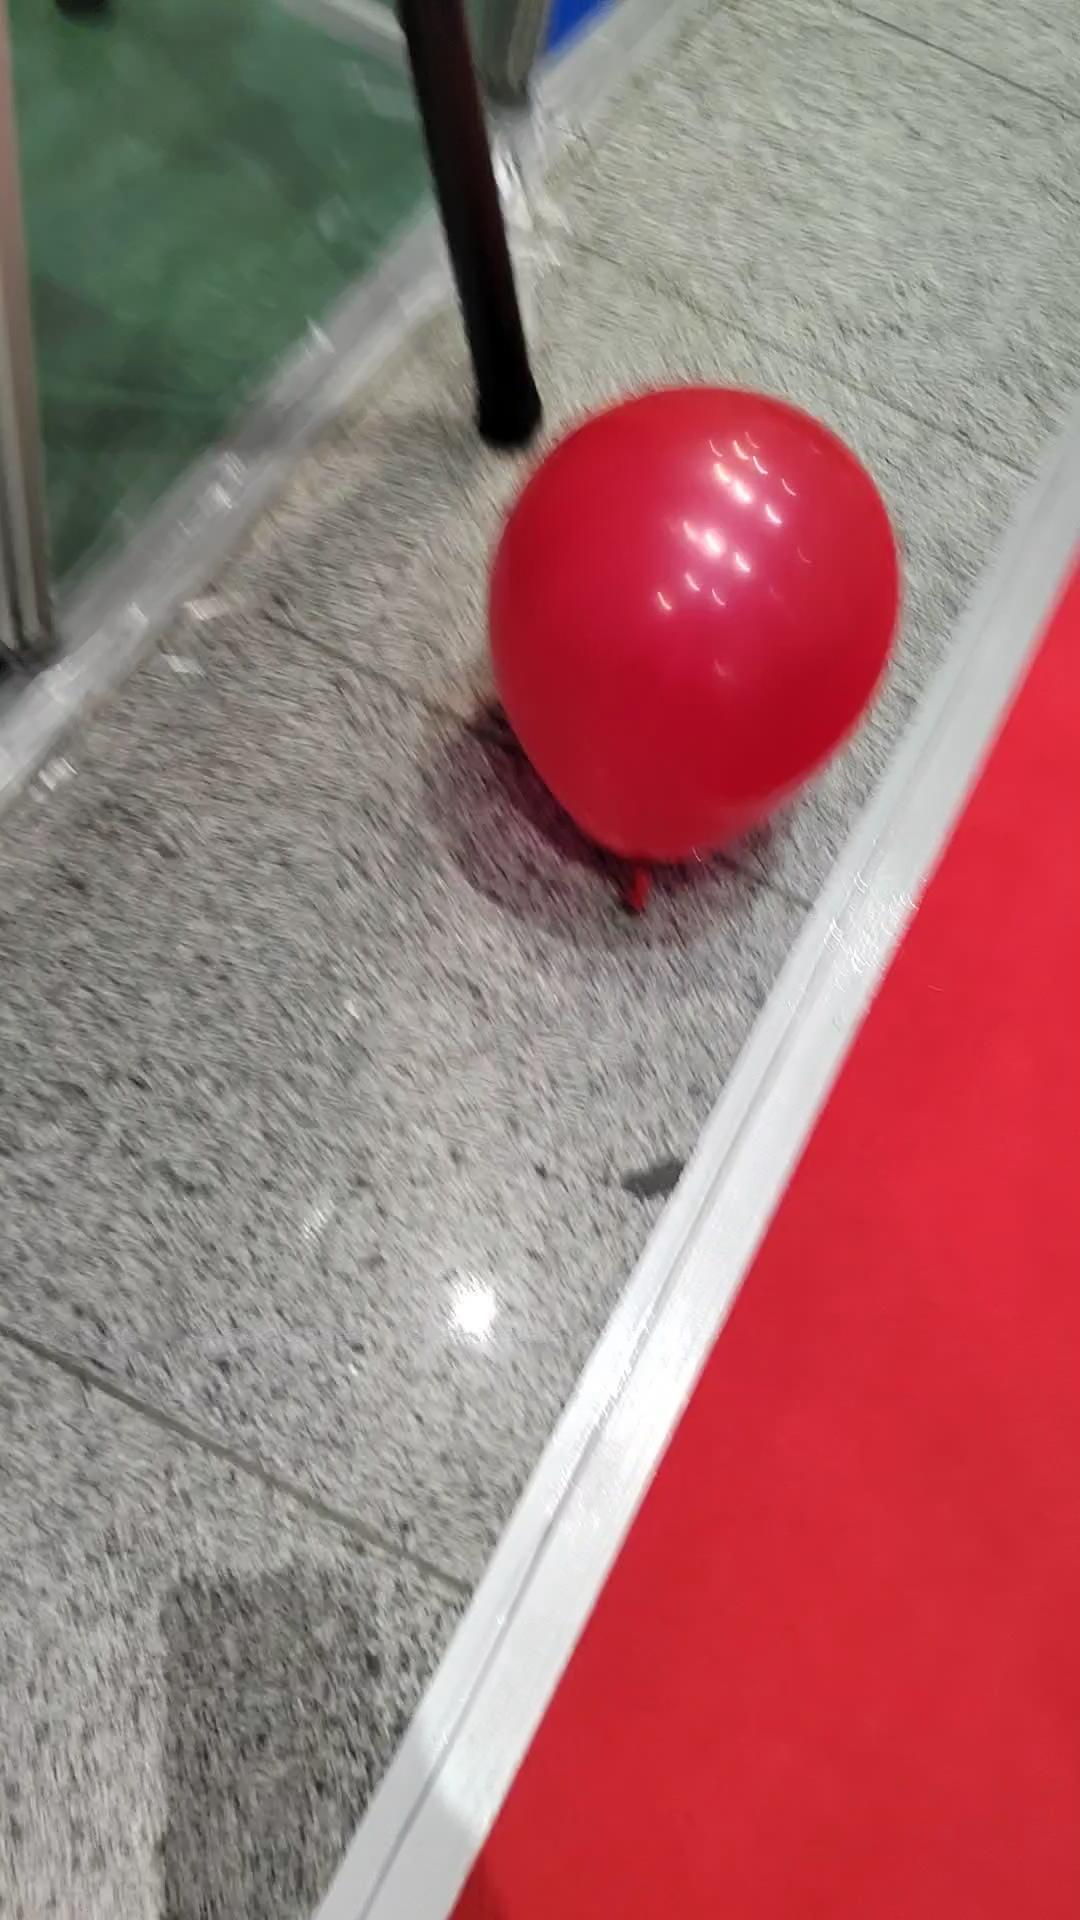red: (487, 384, 905, 886)
